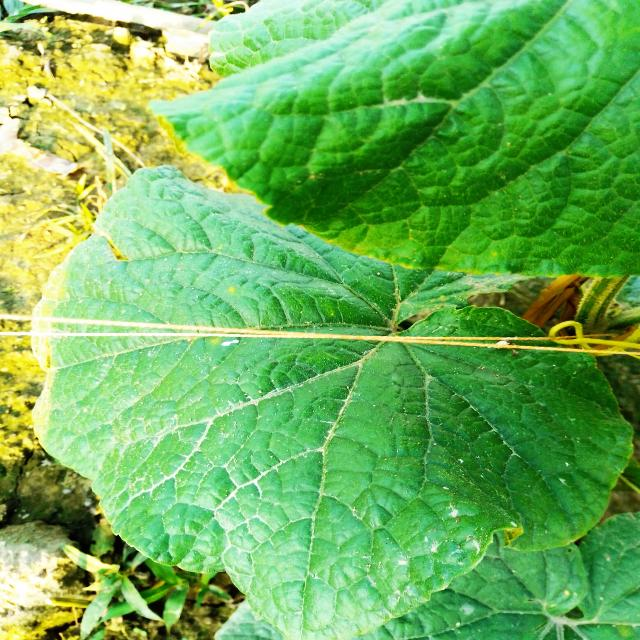Fresh-Leaf: (26, 165, 636, 640), (147, 0, 639, 280)
